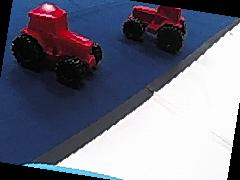Tracktor: (10, 3, 104, 85), (120, 1, 187, 50)
